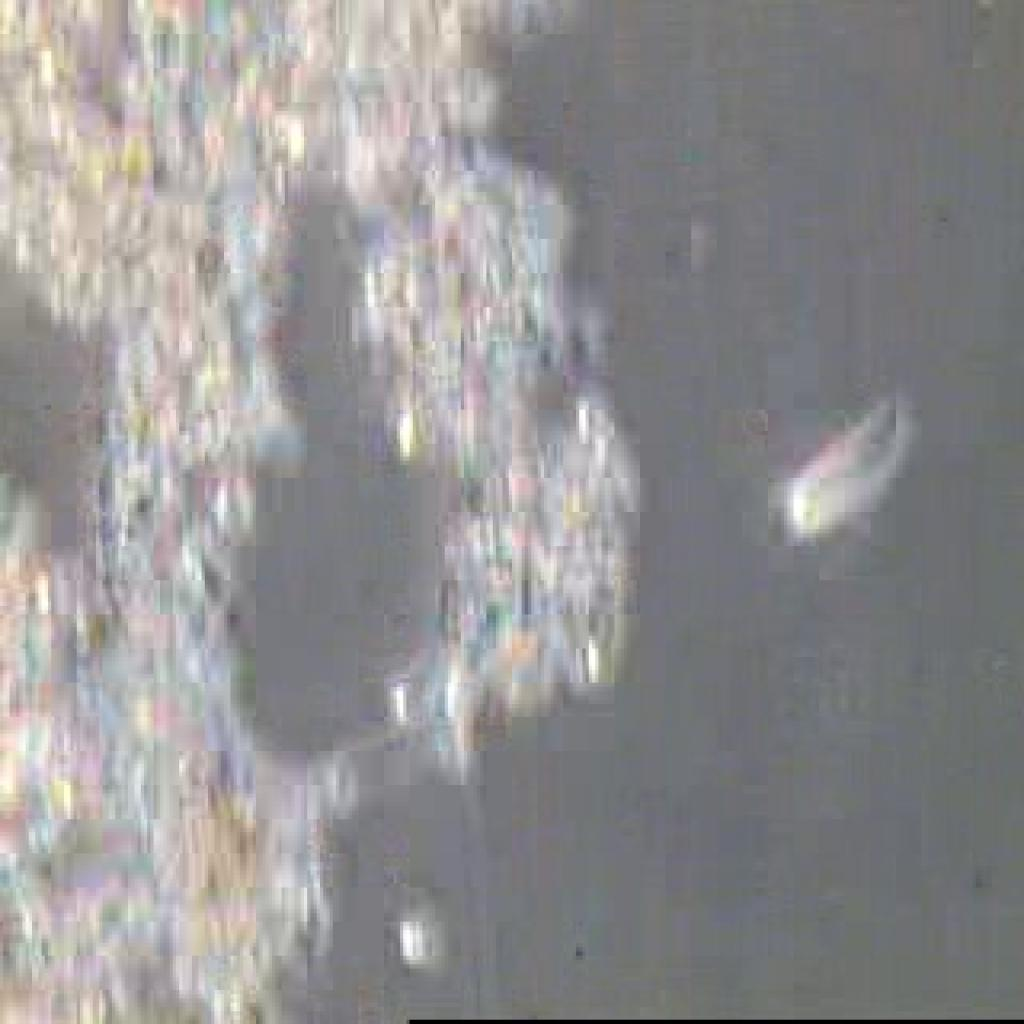Pristina: (738, 397, 932, 563)
